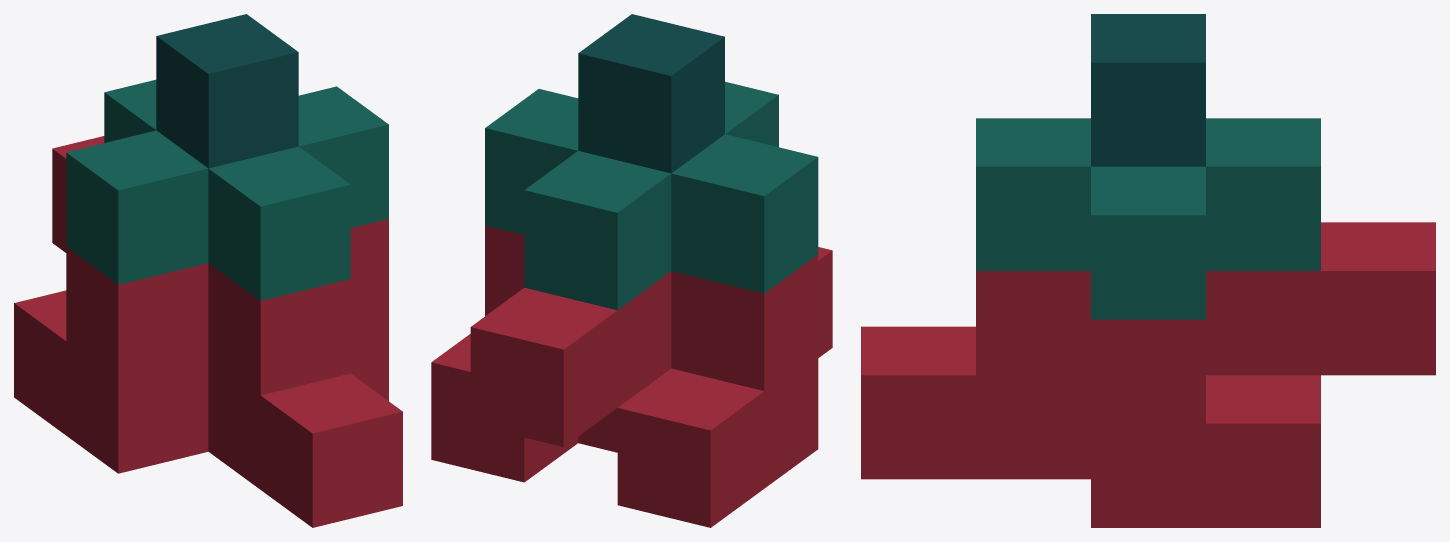
File: Red Pepper.obj
The picture shows the model from 3 angles, left to right: view 1: azimuth 30°, elevation 25°; view 2: azimuth 150°, elevation 25°; view 3: azimuth 270°, elevation 25°; orthographic projection. The views are drawn at different scales.
Bounding box in the file's own units: 0.3 × 0.4 × 0.5.
Materials: 1 (1 with a texture image).
